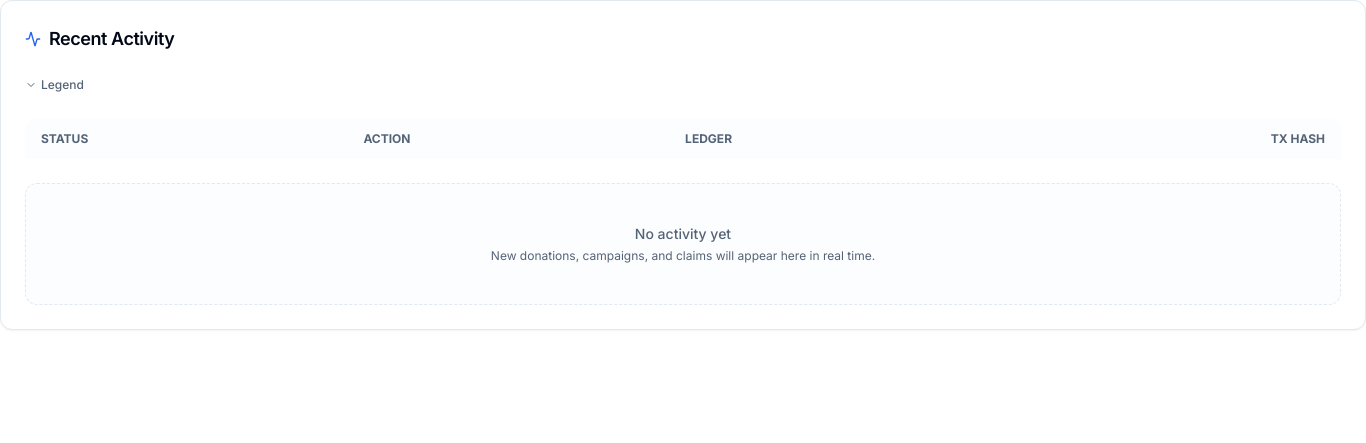
Test: EventFeed — icons and legend › has a collapsible legend documenting each event type
Check: the text "A donor contributed funds" is not shown
Step 1. Click the button "Legend" → (54, 85), box [25,77,84,93]
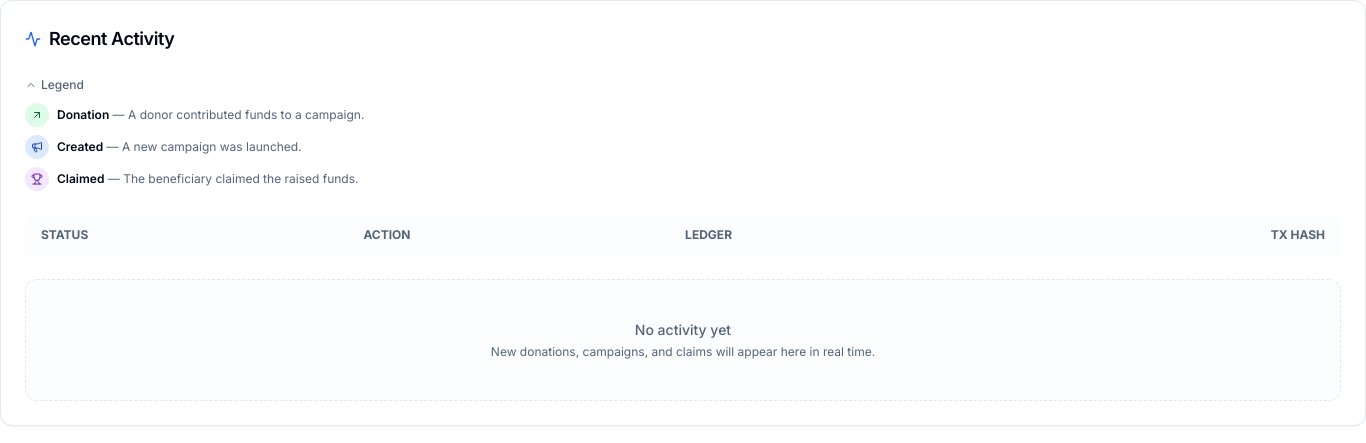
Check: the button "Legend" is expanded, box [25,77,84,93]
Check: the text "— A donor contributed funds to a campaign." is shown, box [109,107,364,122]
Check: the text "— A new campaign was launched." is shown, box [103,139,302,154]
